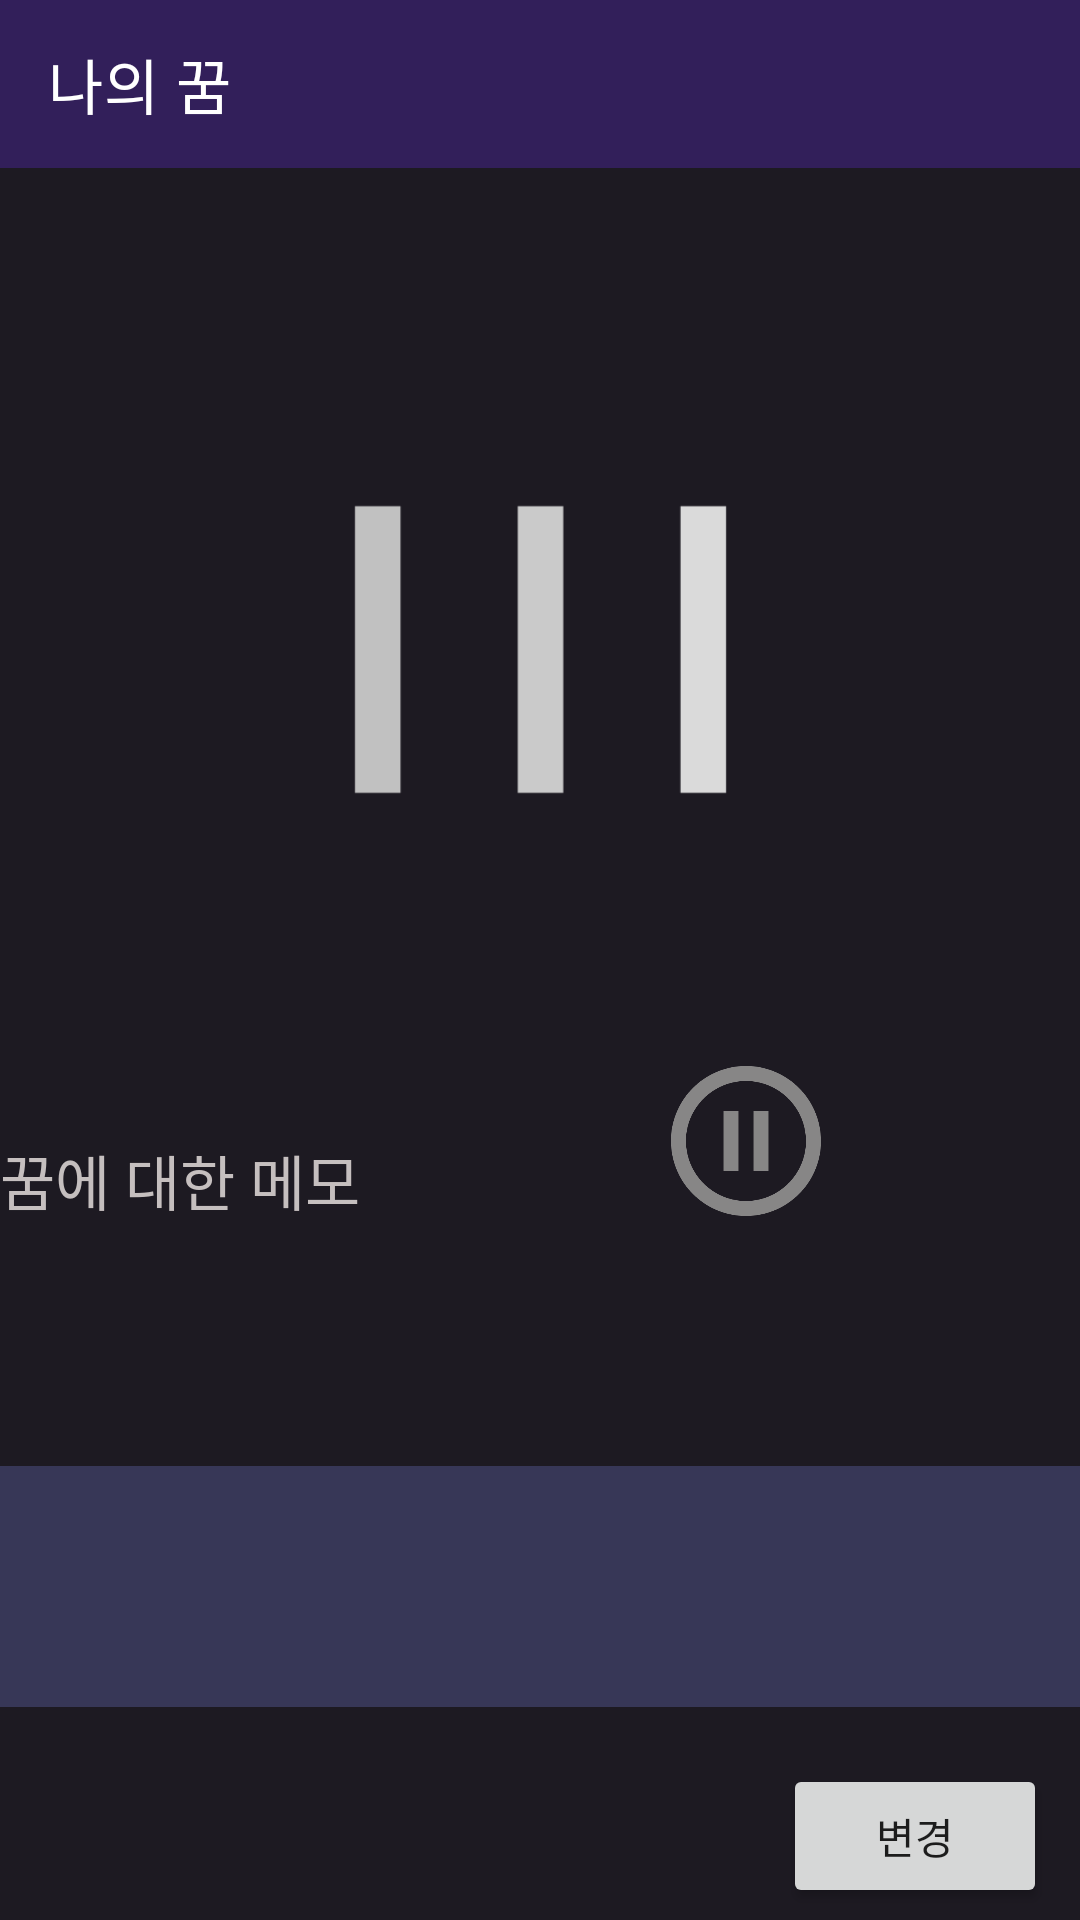

Screen size 1080 x 1920. Icon name, then its box in pixels as (x1=x1, y1=y1, x2=x2, y2=y2):
audio pause: (x1=671, y1=1066, x2=821, y2=1216)
